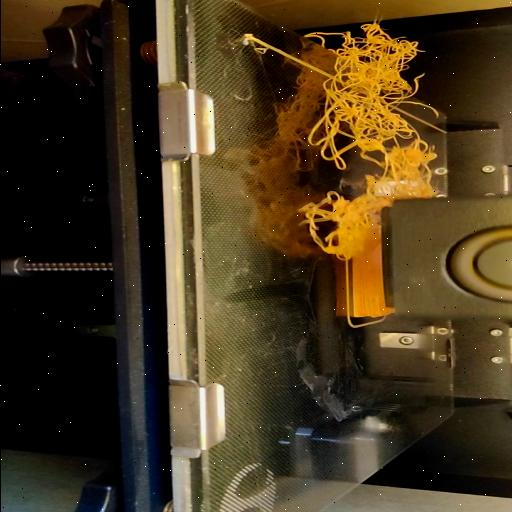spaghetti: (302, 24, 440, 168)
